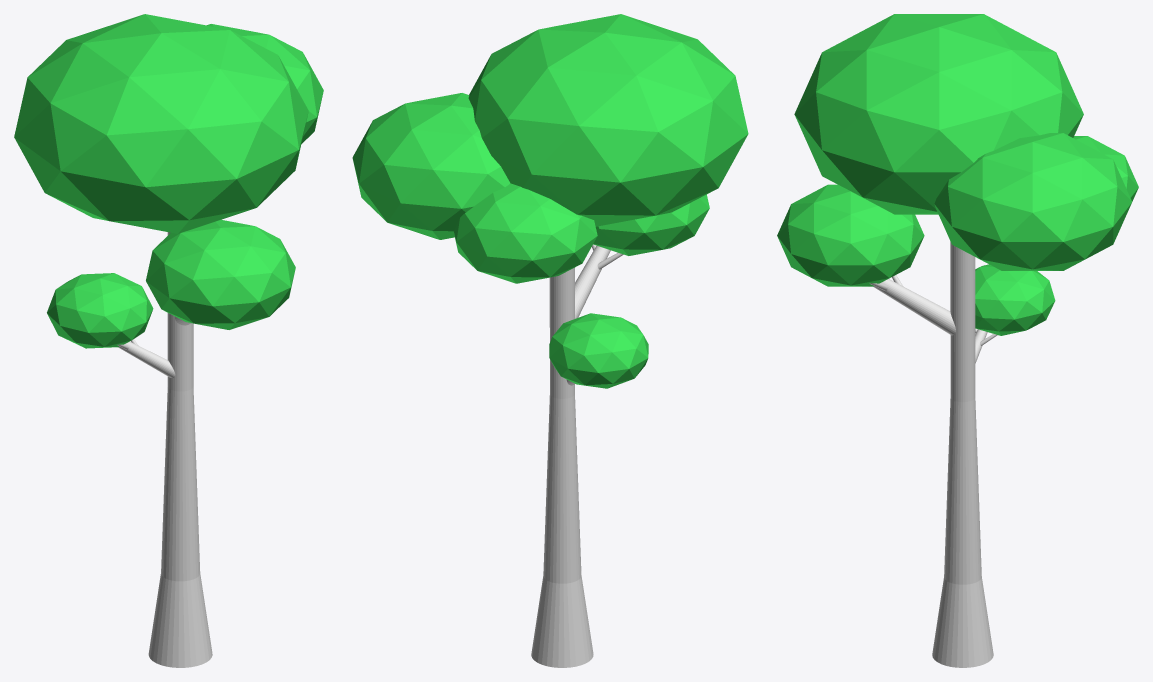
Rendered from Tree2.fbx.
3 renders of one model, left to right at view 1: azimuth 30°, elevation 25°; view 2: azimuth 150°, elevation 25°; view 3: azimuth 270°, elevation 25°, orthographic. The views are drawn at different scales.
Parts seen in each view (by area): view 1: Tree1; view 2: Tree1; view 3: Tree1.
Boxes of the visible parts, x1,y1,x2,y2 form: Tree1: (14,14,323,667); Tree1: (352,14,748,667); Tree1: (777,14,1138,667).
Size of the model in its own units: 1167 by 2181 by 1142.
